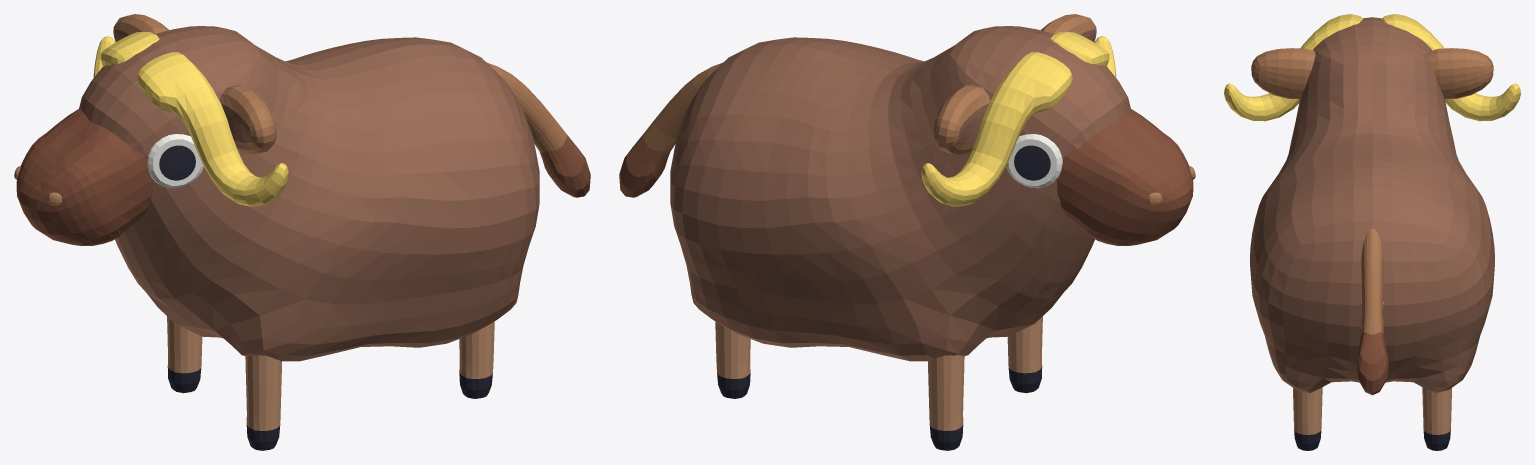
3 renders of one model, left to right at view 1: azimuth 30°, elevation 25°; view 2: azimuth 150°, elevation 25°; view 3: azimuth 270°, elevation 25°, orthographic. The views are drawn at different scales.
Visible parts, largest first — view 1: Ox_LOD0; view 2: Ox_LOD0; view 3: Ox_LOD0.
Boxes of the visible parts, x1=… form: Ox_LOD0: x1=14, y1=14, x2=590, y2=450; Ox_LOD0: x1=619, y1=14, x2=1195, y2=450; Ox_LOD0: x1=1224, y1=14, x2=1520, y2=450.
Bounding box in the file's own units: 363 × 239 × 201.
Materials: 1 (1 with a texture image).
